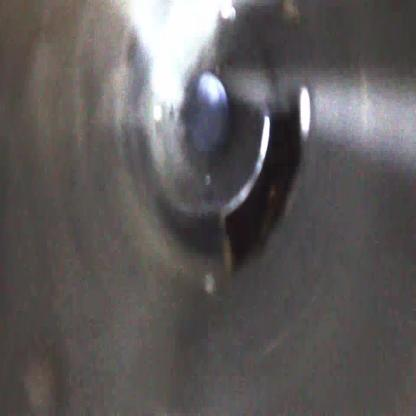Crack2: (218, 105, 307, 282)
